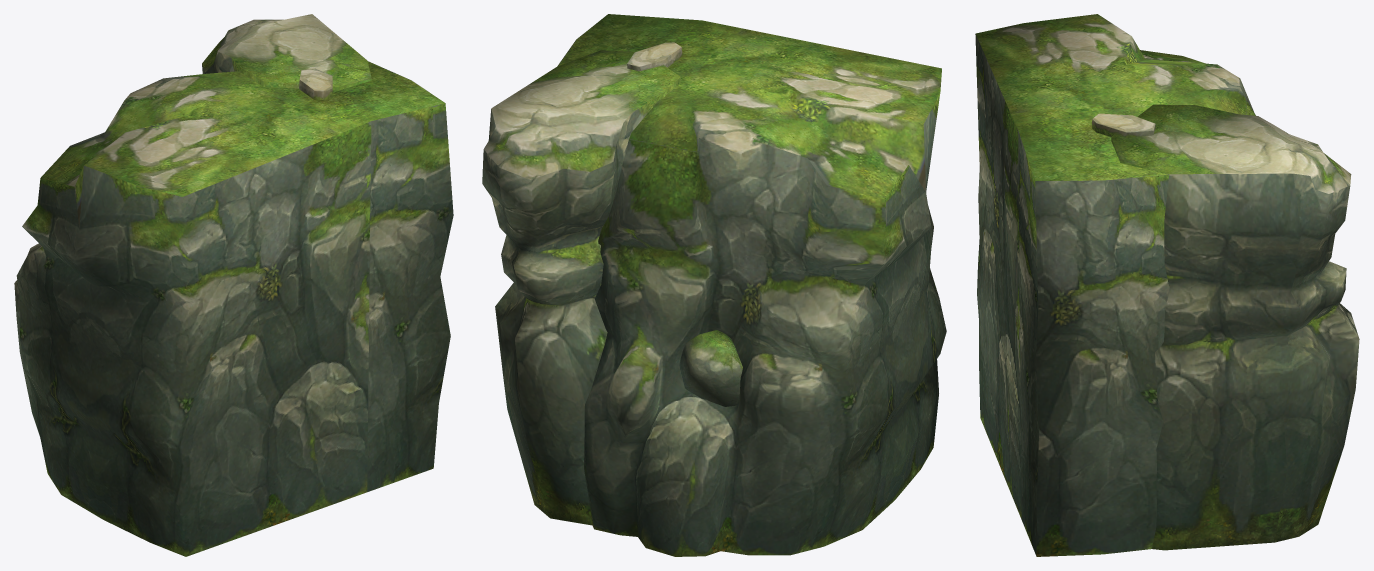
The picture shows the model from 3 angles, left to right: view 1: azimuth 30°, elevation 25°; view 2: azimuth 150°, elevation 25°; view 3: azimuth 270°, elevation 25°; orthographic projection. The views are drawn at different scales.
Visible parts, largest first — view 1: st_004; view 2: st_004; view 3: st_004.
Boxes of the visible parts, box(x1,y1,x2,y2) form: st_004: box(14, 14, 453, 556); st_004: box(482, 14, 946, 556); st_004: box(975, 14, 1359, 556).
Size of the model in its own units: 617 by 639 by 554.
